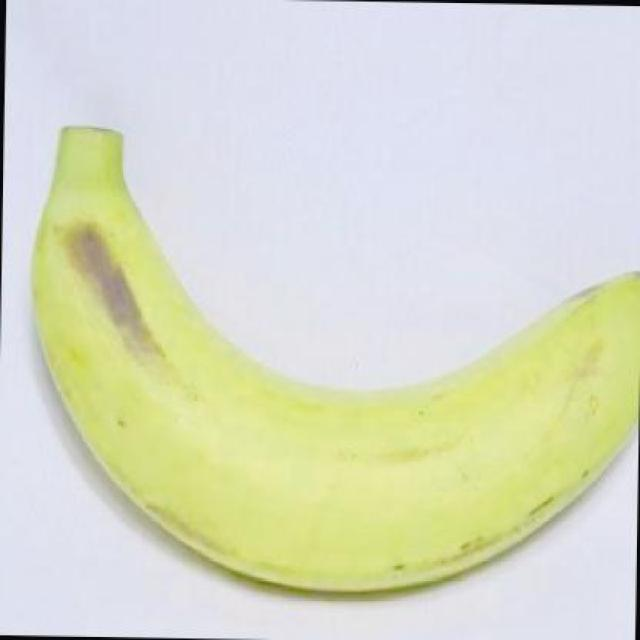ripe: (25, 119, 640, 640)
